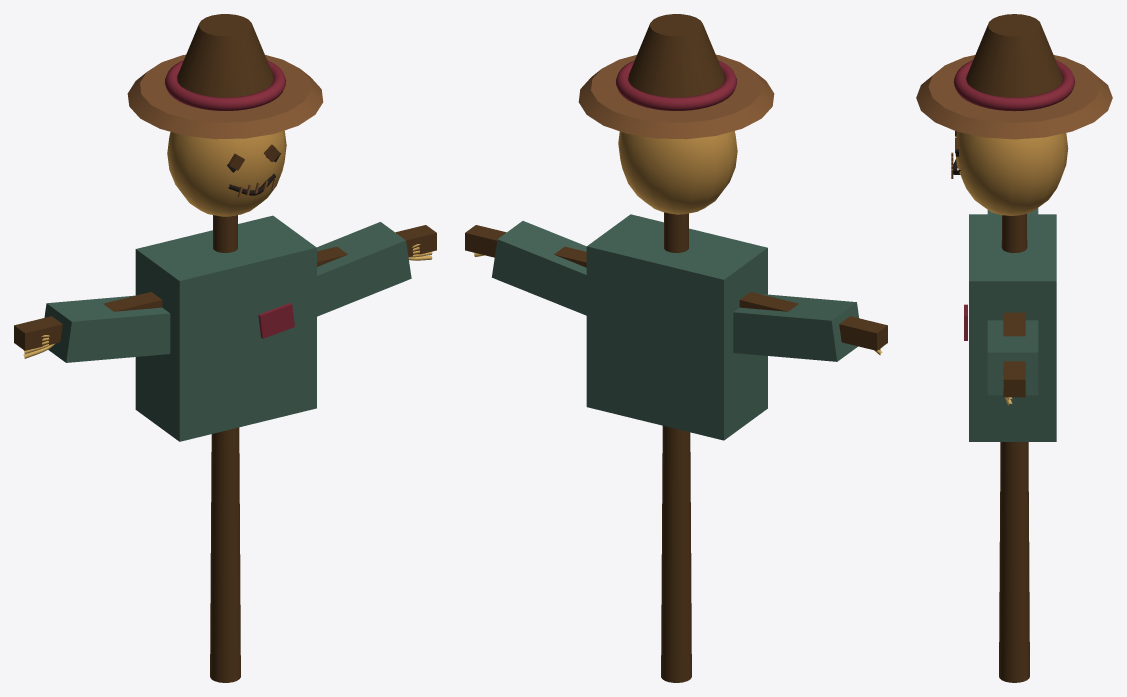
File: mia-scarecrow.glb
3 renders of one model, left to right at view 1: azimuth 30°, elevation 25°; view 2: azimuth 150°, elevation 25°; view 3: azimuth 270°, elevation 25°, orthographic.
Visible parts, largest first — view 1: Body_sage, Body_wood, Body_oak, Body_hay-mid, Body_velvet; view 2: Body_sage, Body_wood, Body_oak, Body_hay-mid, Body_velvet; view 3: Body_sage, Body_wood, Body_oak, Body_hay-mid, Body_velvet.
Part boxes in pixels (left/top/right/bottom): Body_sage: left=44, top=215, right=411, bottom=441; Body_wood: left=14, top=14, right=436, bottom=682; Body_oak: left=127, top=54, right=323, bottom=197; Body_hay-mid: left=167, top=130, right=286, bottom=216; Body_velvet: left=165, top=60, right=294, bottom=338; Body_sage: left=491, top=214, right=858, bottom=440; Body_wood: left=465, top=14, right=887, bottom=682; Body_oak: left=578, top=54, right=774, bottom=139; Body_hay-mid: left=618, top=131, right=737, bottom=214; Body_velvet: left=615, top=60, right=736, bottom=110; Body_sage: left=969, top=208, right=1056, bottom=441; Body_wood: left=955, top=14, right=1062, bottom=682; Body_oak: left=916, top=55, right=1112, bottom=178; Body_hay-mid: left=955, top=131, right=1068, bottom=215; Body_velvet: left=953, top=60, right=1075, bottom=340.
Bounding box in the file's own units: 1.62 × 2.45 × 0.67.
